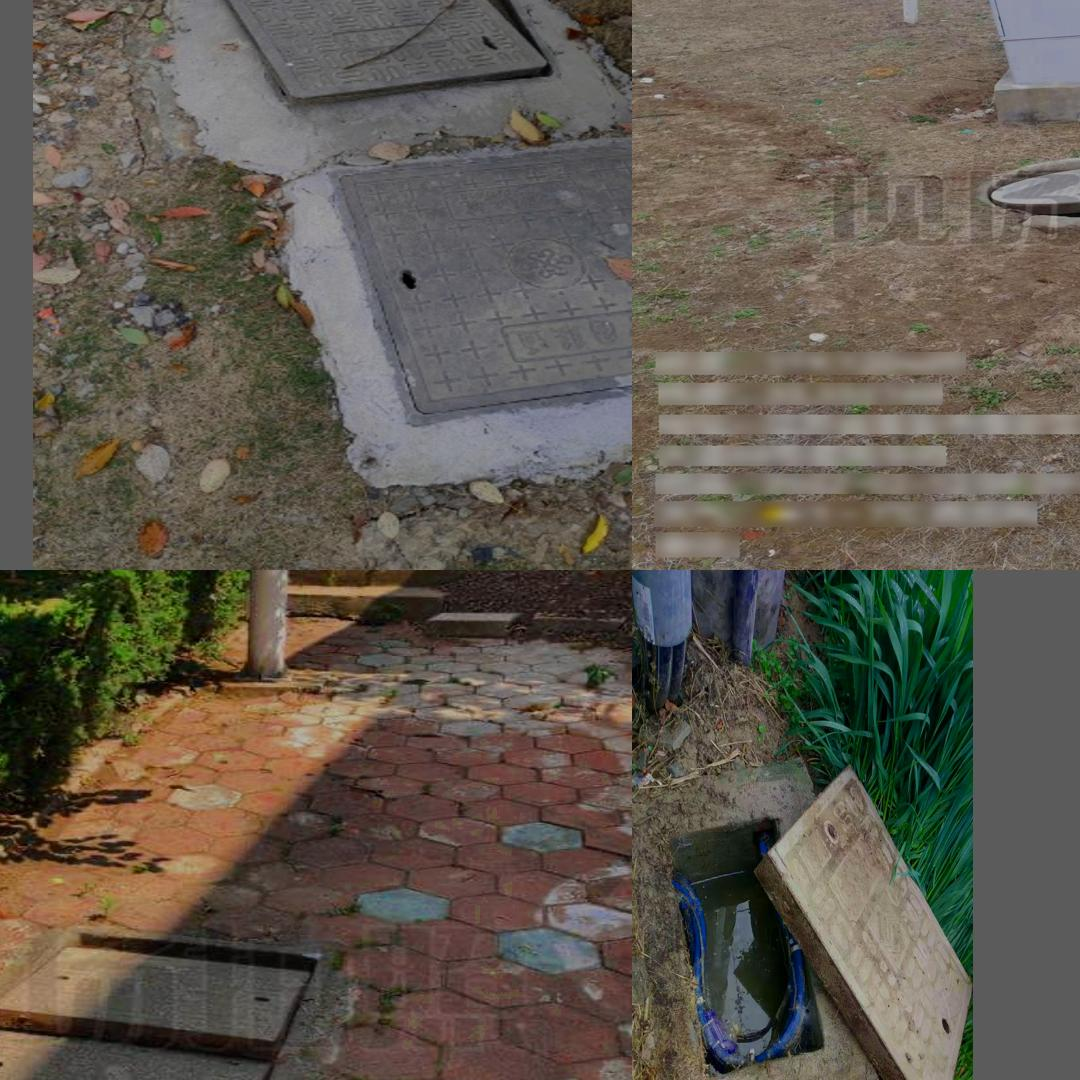good: (328, 139, 632, 425)
uncovered: (634, 757, 972, 1080), (0, 921, 347, 1080), (152, 0, 572, 111), (981, 153, 1080, 219)
